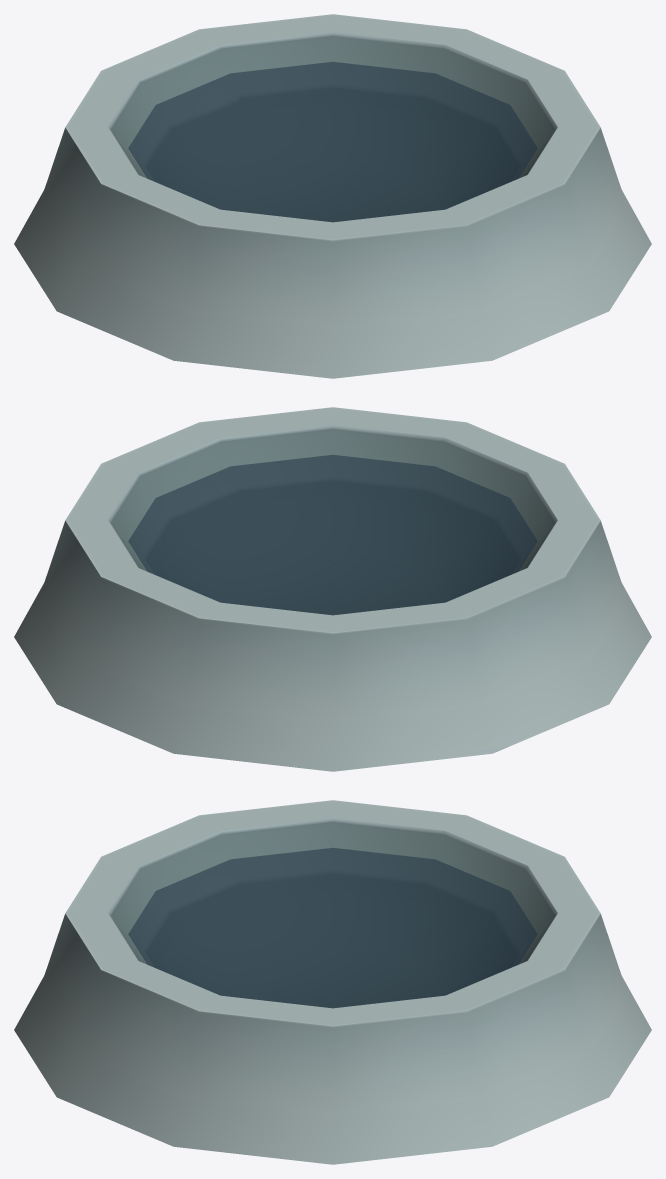
File: Item_LiquidFuel.fbx
3 views of the same model, one above another, from view 1: azimuth 30°, elevation 25°; view 2: azimuth 150°, elevation 25°; view 3: azimuth 270°, elevation 25° (orthographic).
Parts seen in each view (by area): view 1: Cylinder001, Shape001; view 2: Cylinder001, Shape001; view 3: Cylinder001, Shape001.
Part boxes in pixels (bbox=[...]): Cylinder001: bbox=[14, 14, 651, 378]; Shape001: bbox=[128, 62, 537, 222]; Cylinder001: bbox=[14, 407, 651, 771]; Shape001: bbox=[128, 455, 537, 615]; Cylinder001: bbox=[14, 800, 651, 1164]; Shape001: bbox=[128, 848, 537, 1008].
Size of the model in its own units: 131 by 26.4 by 131.
